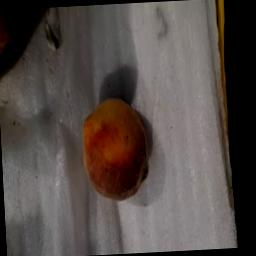Peach Unripe: (68, 90, 168, 210)
